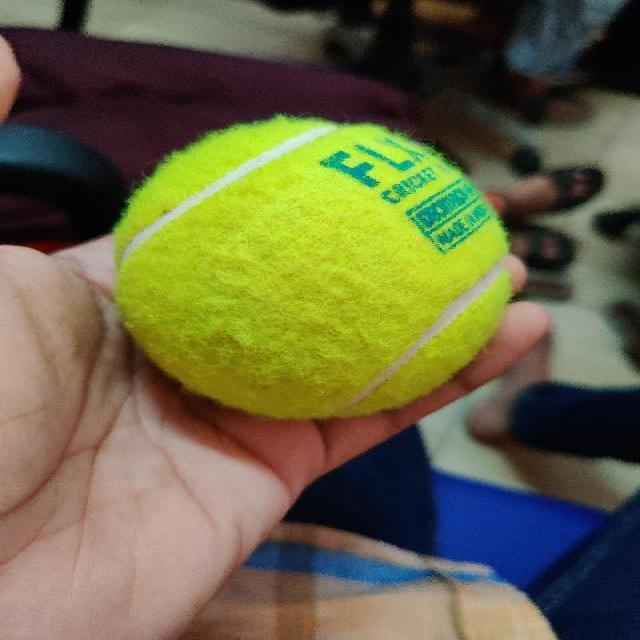tennis-ball: (116, 122, 508, 416)
